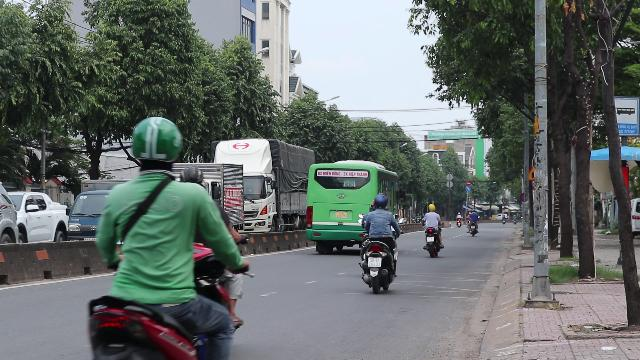helmet: (127, 116, 185, 172), (372, 194, 388, 209)
licenseplate: (368, 258, 380, 266)
motorcyclist: (78, 113, 250, 359), (358, 192, 400, 292)
